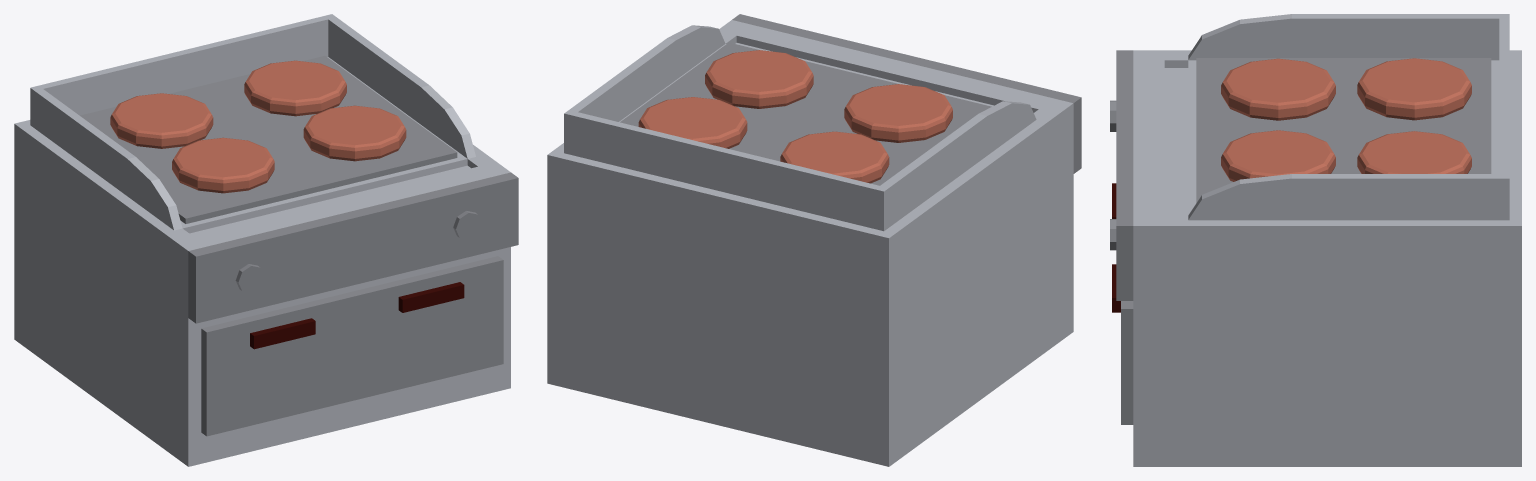
The model's file is stove.fbx.
3 views of the same model, side by side, from view 1: azimuth 30°, elevation 25°; view 2: azimuth 150°, elevation 25°; view 3: azimuth 270°, elevation 25° (orthographic). The views are drawn at different scales.
Parts seen in each view (by area): view 1: grill, patty.001, patty.002, patty.003, patty; view 2: grill, patty.001, patty.003, patty.002, patty; view 3: grill, patty.002, patty.003, patty.001, patty.
Part boxes in pixels (x1,y1,x2,y2): grill: (14,14,518,466); patty.001: (303,105,406,161); patty.002: (110,93,213,148); patty.003: (172,137,274,193); patty: (244,60,346,116); grill: (547,14,1081,466); patty.001: (705,50,813,108); patty.003: (844,84,952,142); patty.002: (780,131,889,183); patty: (638,97,747,148); grill: (1110,14,1521,466); patty.002: (1357,58,1471,120); patty.003: (1221,58,1335,120); patty.001: (1221,130,1335,181); patty: (1357,131,1471,173).
Bounding box in the file's own units: 157 × 118 × 156.
